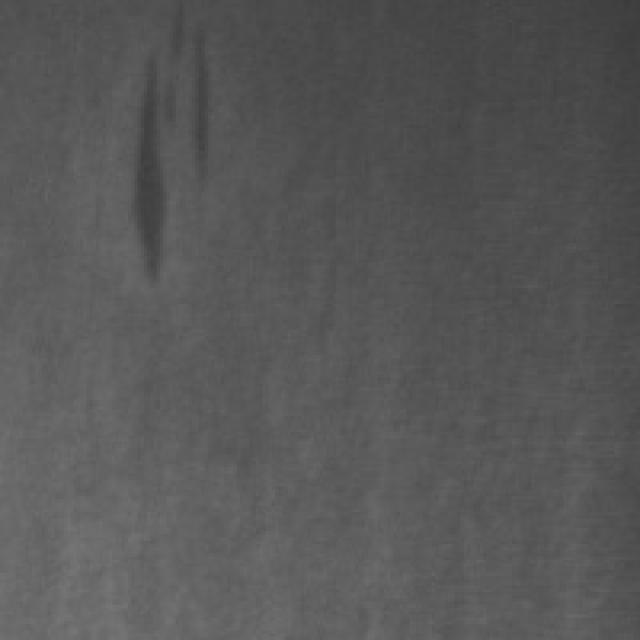inclusion: (109, 0, 227, 288)
